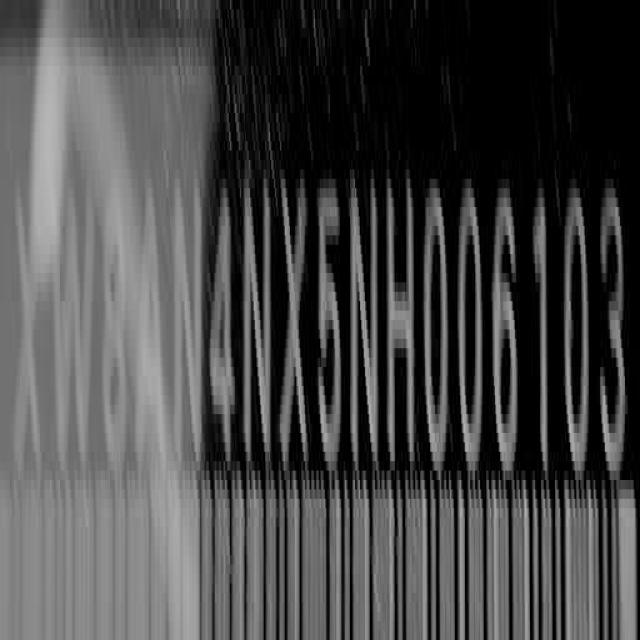0: (561, 172, 591, 491), (457, 171, 487, 484), (424, 166, 452, 483)
1: (531, 168, 554, 482)
3: (600, 170, 630, 494)
4: (208, 188, 236, 460)
5: (316, 182, 344, 498)
6: (491, 170, 523, 481)
8: (102, 180, 131, 480)
A: (133, 170, 168, 470)
H: (388, 163, 420, 481)
N: (175, 171, 208, 471), (242, 165, 272, 480), (351, 165, 380, 480)
W: (50, 164, 99, 460)
X: (12, 171, 44, 495), (280, 160, 310, 470)
